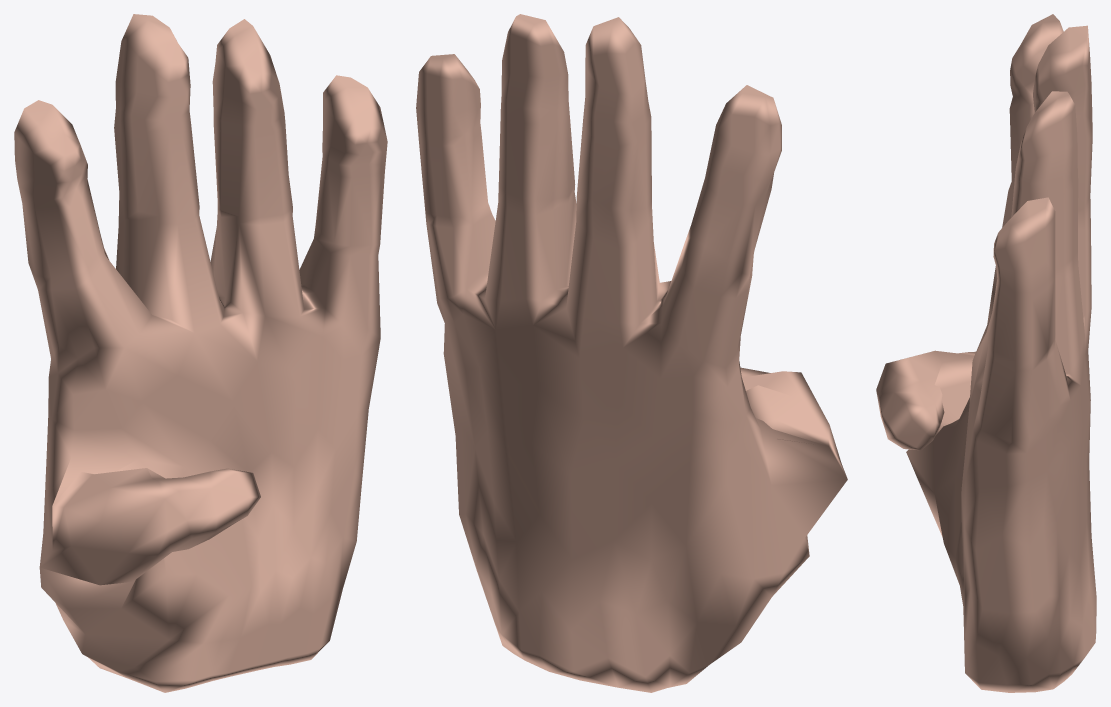
The model's file is MAO_4.obj.
3 views of the same model, side by side, from view 1: azimuth 30°, elevation 25°; view 2: azimuth 150°, elevation 25°; view 3: azimuth 270°, elevation 25° (orthographic). The views are drawn at different scales.
Visible parts, largest first — view 1: mao_dir polySurface1; view 2: mao_dir polySurface1; view 3: mao_dir polySurface1.
Boxes of the visible parts, <box> form: mao_dir polySurface1: <box>14,14,387,692</box>; mao_dir polySurface1: <box>416,14,847,692</box>; mao_dir polySurface1: <box>876,14,1096,692</box>.
Size of the model in its own units: 147 by 243 by 79.75.
